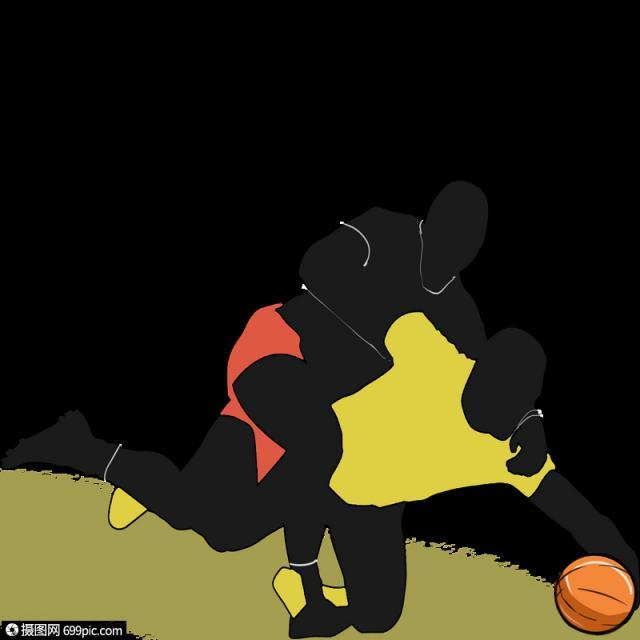rim: (556, 556, 634, 632)
